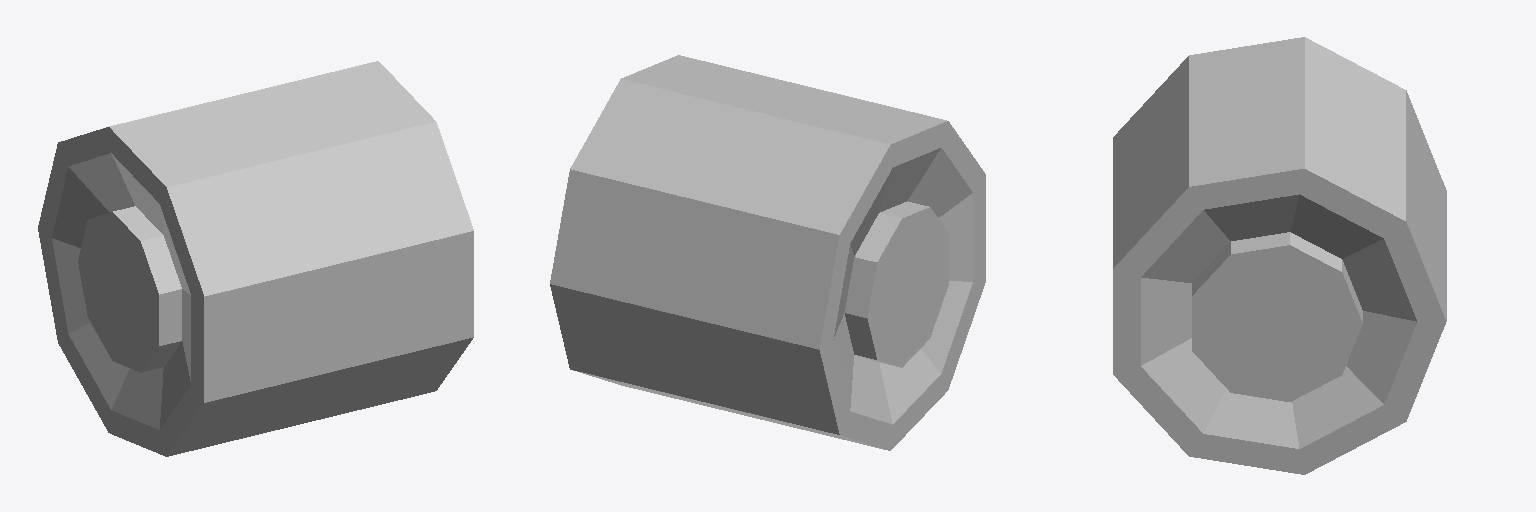
The model's file is kolomale.obj.
3 views of the same model, side by side, from view 1: azimuth 30°, elevation 25°; view 2: azimuth 150°, elevation 25°; view 3: azimuth 270°, elevation 25° (orthographic).
Visible parts, largest first — view 1: Cylinder; view 2: Cylinder; view 3: Cylinder.
Boxes of the visible parts, x1=… form: Cylinder: x1=38, y1=61, x2=473, y2=456; Cylinder: x1=550, y1=55, x2=985, y2=450; Cylinder: x1=1113, y1=37, x2=1446, y2=474.
Size of the model in its own units: 0.6107 by 0.6445 by 0.6347.